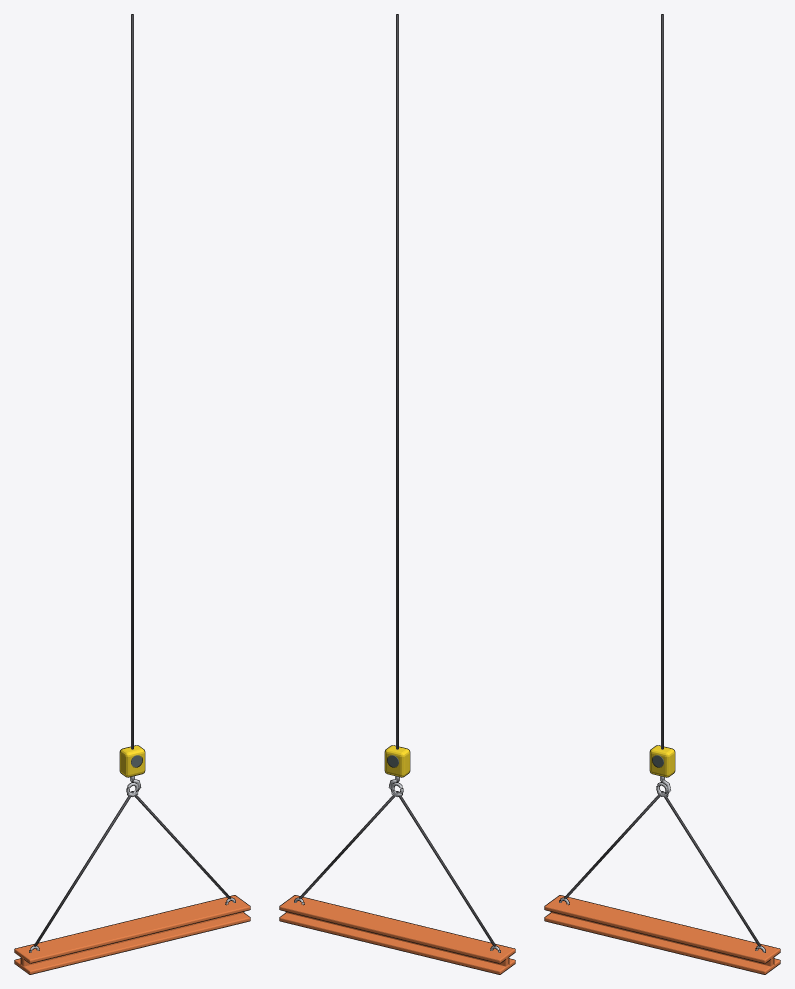
Rendered from Beam_Long.fbx.
3 renders of one model, left to right at view 1: azimuth 30°, elevation 25°; view 2: azimuth 150°, elevation 25°; view 3: azimuth 330°, elevation 25°, orthographic.
Visible parts, largest first — view 1: Beam_Long; view 2: Beam_Long; view 3: Beam_Long.
Boxes of the visible parts, x1=… form: Beam_Long: x1=14, y1=14, x2=250, y2=974; Beam_Long: x1=279, y1=14, x2=515, y2=974; Beam_Long: x1=544, y1=14, x2=780, y2=974.
Bounding box in the file's own units: 18.08 × 72.31 × 2.28.
